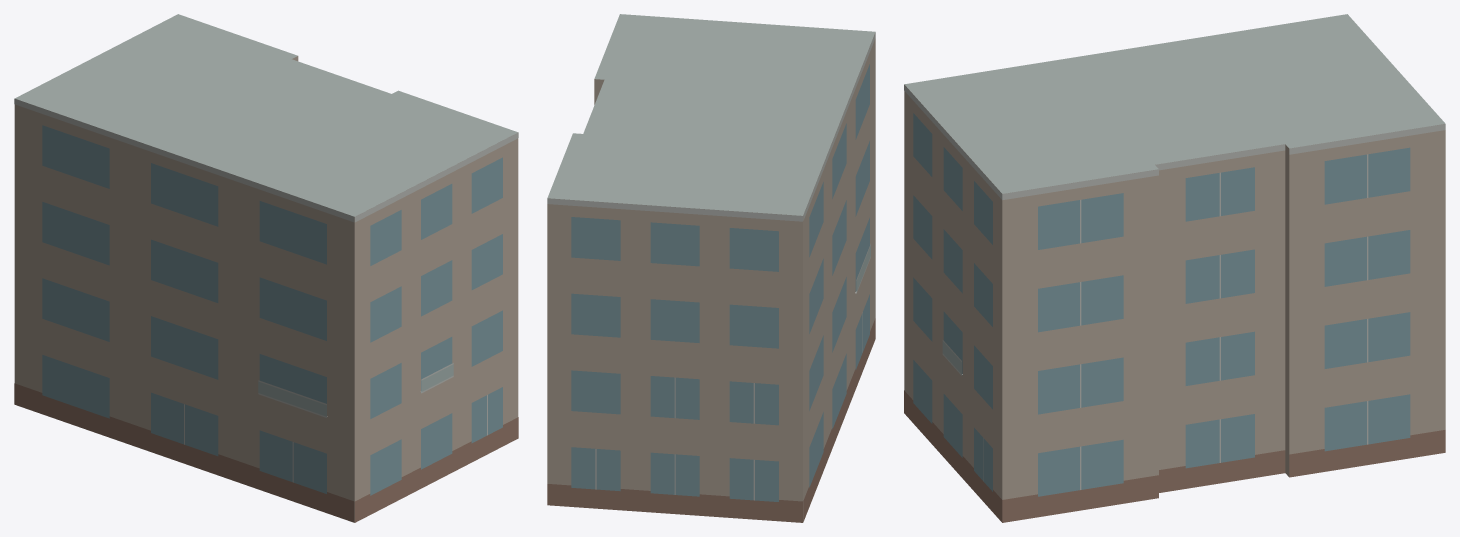
File: survey-upis-32659559.glb
3 renders of one model, left to right at view 1: azimuth 30°, elevation 25°; view 2: azimuth 150°, elevation 25°; view 3: azimuth 270°, elevation 25°, orthographic. The views are drawn at different scales.
Parts seen in each view (by area): view 1: survey-upis-32659559.tmp; view 2: survey-upis-32659559.tmp; view 3: survey-upis-32659559.tmp.
Part boxes in pixels (<box>): survey-upis-32659559.tmp: <box>14,14,518,522</box>; survey-upis-32659559.tmp: <box>547,14,875,522</box>; survey-upis-32659559.tmp: <box>904,14,1445,522</box>.
Bounding box in the file's own units: 15.09 × 12.85 × 19.18.
